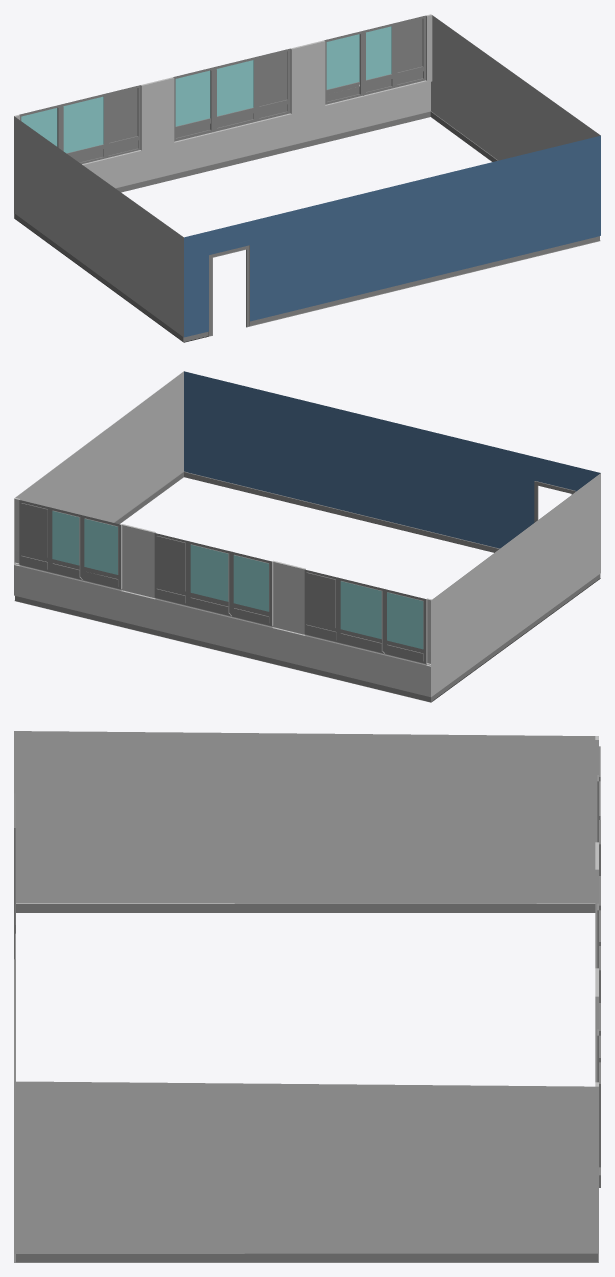
Rendered from ClassRoom.fbx.
3 renders of one model, top to bottom at view 1: azimuth 30°, elevation 25°; view 2: azimuth 150°, elevation 25°; view 3: azimuth 270°, elevation 25°, orthographic. The views are drawn at different scales.
Parts seen in each view (by area): view 1: Plane.003; view 2: Plane.003; view 3: Plane.003.
Boxes of the visible parts, x1,y1,x2,y2 form: Plane.003: [14, 14, 600, 342]; Plane.003: [14, 371, 600, 702]; Plane.003: [14, 731, 600, 1262].
Bounding box in the file's own units: 931 × 225 × 659.
